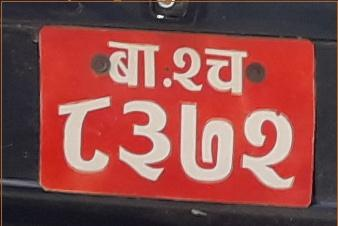2: (237, 100, 297, 196), (167, 42, 205, 97)
3: (115, 96, 173, 183)
7: (177, 98, 237, 186)
8: (51, 92, 113, 177)
ba: (103, 37, 161, 92)
cha: (204, 41, 249, 101)
